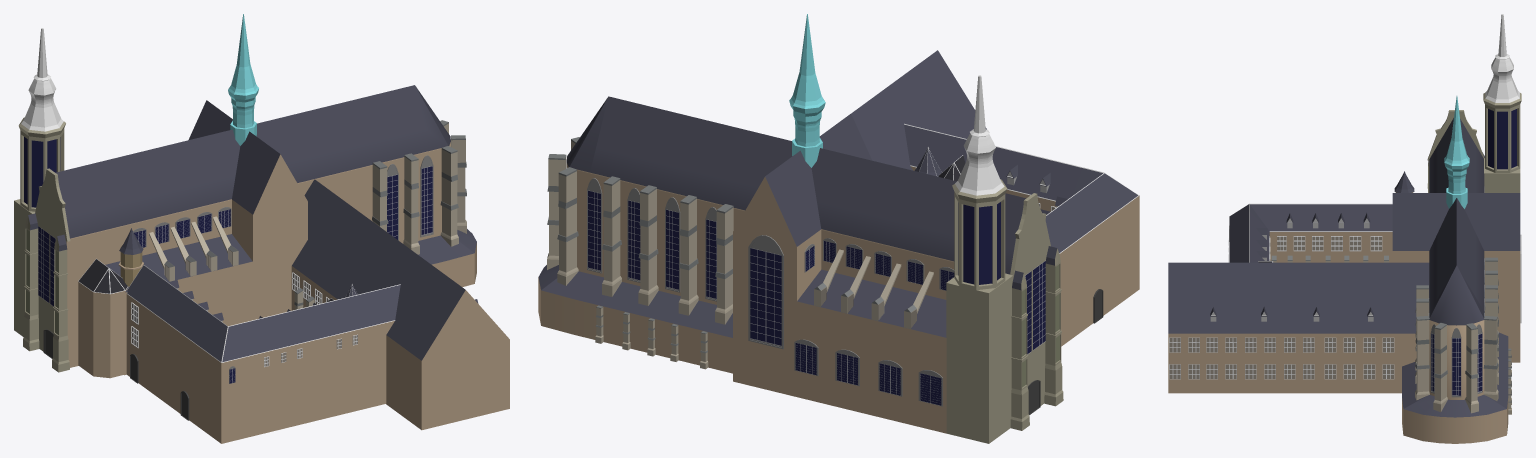
File: Museum.fbx
3 renders of one model, left to right at view 1: azimuth 30°, elevation 25°; view 2: azimuth 150°, elevation 25°; view 3: azimuth 270°, elevation 25°, orthographic. The views are drawn at different scales.
Visible parts, largest first — view 1: Plane, Plane.005, Plane.006, Plane.001, Plane.002, Cylinder, Cylinder.004, Cylinder.005, Cube.169, Cube.168, Cube.140, Plane.003 (+9 smaller); view 2: Plane, Plane.005, Plane.002, Plane.001, Plane.003, Plane.006, Cylinder, Cube.172, Cylinder.005, Cube.168, Cube.169, Cube.143 (+15 smaller); view 3: Plane.006, Plane, Plane.005, Plane.001, Cylinder, Cylinder.005, Cube.143, Cube.140, Cube.141, Cube.142, Plane.003, Cube.155 (+2 smaller).
Boxes of the visible parts, left/top/right/bottom form: Plane: left=37, top=85, right=476, bottom=367; Plane.005: left=126, top=265, right=400, bottom=443; Plane.006: left=291, top=179, right=509, bottom=430; Plane.001: left=188, top=100, right=307, bottom=319; Plane.002: left=105, top=234, right=252, bottom=375; Cylinder: left=18, top=28, right=65, bottom=211; Cylinder.004: left=78, top=282, right=127, bottom=378; Cylinder.005: left=228, top=14, right=258, bottom=145; Cube.169: left=52, top=234, right=69, bottom=372; Cube.168: left=23, top=213, right=39, bottom=351; Cube.140: left=440, top=146, right=458, bottom=246; Plane.003: left=14, top=199, right=35, bottom=337; Plane: left=538, top=96, right=1046, bottom=405; Plane.005: left=904, top=123, right=1139, bottom=346; Plane.002: left=797, top=269, right=946, bottom=433; Plane.001: left=733, top=114, right=871, bottom=396; Plane.003: left=946, top=273, right=1013, bottom=443; Plane.006: left=851, top=50, right=986, bottom=170; Cylinder: left=952, top=75, right=1007, bottom=290; Cube.172: left=748, top=235, right=783, bottom=349; Cylinder.005: left=789, top=14, right=825, bottom=167; Cube.168: left=1010, top=270, right=1029, bottom=430; Cube.169: left=1044, top=246, right=1063, bottom=406; Cube.143: left=557, top=167, right=578, bottom=285; Plane.006: left=1168, top=262, right=1429, bottom=393; Plane: left=1402, top=118, right=1508, bottom=443; Plane.005: left=1229, top=203, right=1392, bottom=262; Plane.001: left=1392, top=193, right=1520, bottom=362; Cylinder: left=1483, top=14, right=1521, bottom=172; Cylinder.005: left=1444, top=96, right=1469, bottom=208; Cube.143: left=1483, top=316, right=1498, bottom=400; Cube.140: left=1415, top=316, right=1429, bottom=400; Cube.141: left=1433, top=323, right=1447, bottom=412; Cube.142: left=1465, top=323, right=1478, bottom=413; Plane.003: left=1484, top=158, right=1520, bottom=192; Cube.155: left=1451, top=328, right=1461, bottom=397.
Size of the model in its own units: 2304 by 1612 by 1932.
